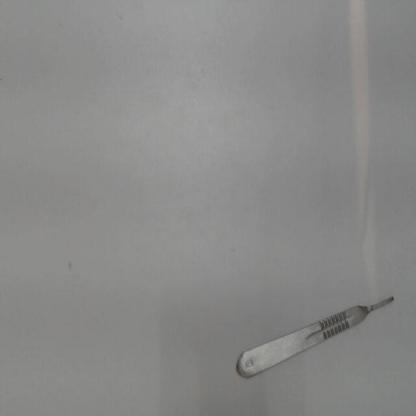No.3 BP Handle: (230, 282, 399, 386)
